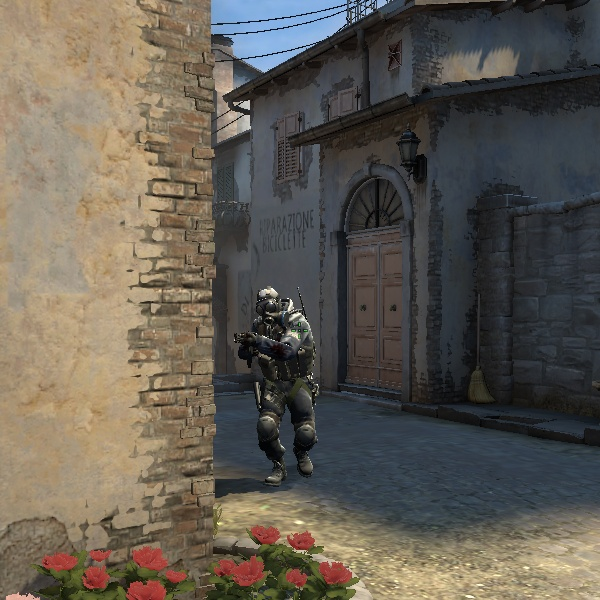ct_body: (220, 279, 325, 482)
ct_head: (247, 283, 293, 327)
